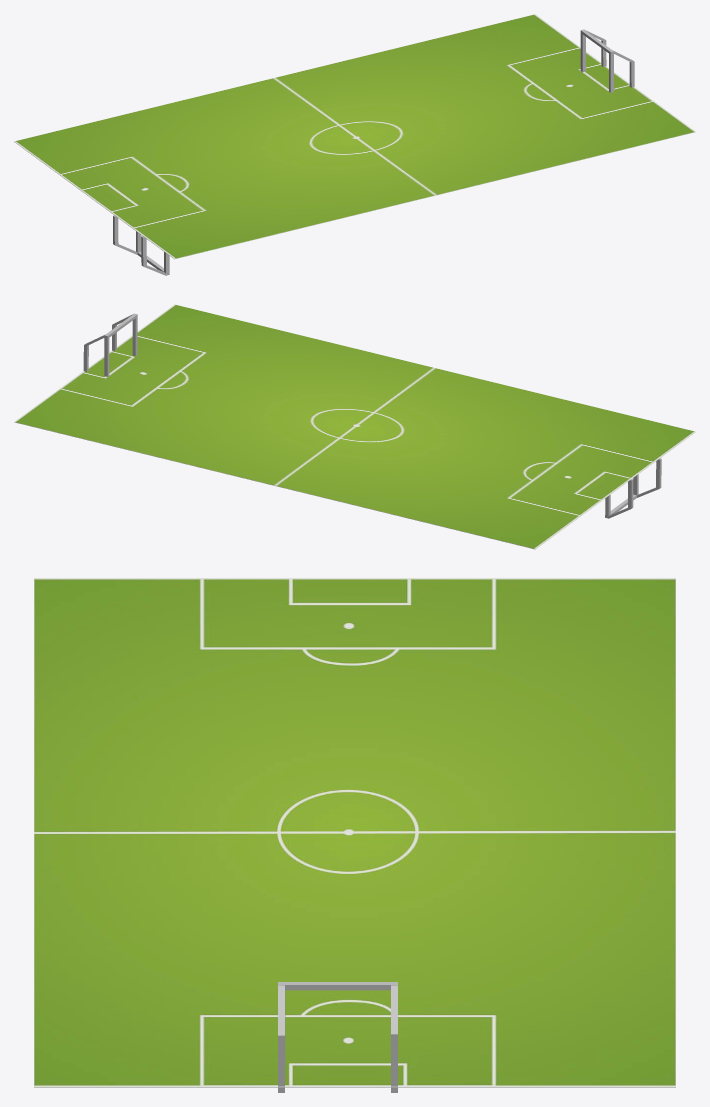
The model's file is FotballField.FBX.
3 views of the same model, one above another, from view 1: azimuth 30°, elevation 25°; view 2: azimuth 150°, elevation 25°; view 3: azimuth 270°, elevation 25° (orthographic). The views are drawn at different scales.
Visible parts, largest first — view 1: Box004, Box012, Box013; view 2: Box004, Box012, Box013; view 3: Box004, Box012.
Boxes of the visible parts, <box> form: Box004: <box>14,14,695,259</box>; Box012: <box>580,29,634,92</box>; Box013: <box>113,215,169,275</box>; Box004: <box>14,304,695,549</box>; Box012: <box>83,313,137,376</box>; Box013: <box>605,458,661,518</box>; Box004: <box>34,578,675,1087</box>; Box012: <box>278,982,397,1092</box>.
Bounding box in the file's own units: 4707 × 756 × 2511.
2 materials, 1 textured.
